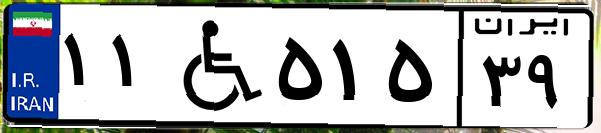1: (330, 28, 385, 110), (57, 26, 110, 100), (110, 28, 158, 98)
3: (475, 38, 525, 113)
5: (270, 28, 330, 110), (385, 28, 445, 110)
9: (525, 38, 570, 115)
ژ (معلولین و جانبازان): (158, 12, 270, 120)
